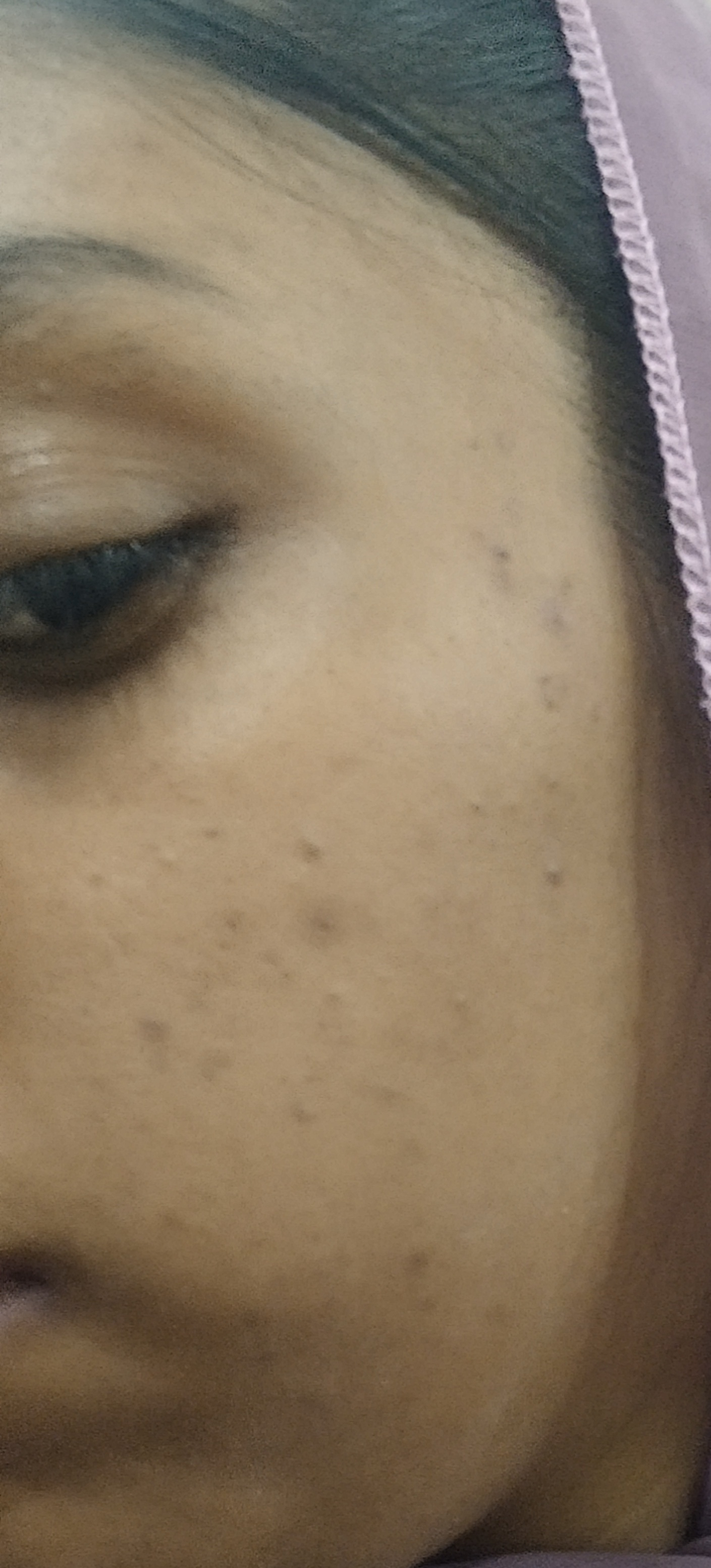closed_comedone: (134, 807, 191, 890), (284, 1079, 352, 1138), (439, 962, 489, 1038), (540, 851, 605, 908), (297, 820, 346, 890)
